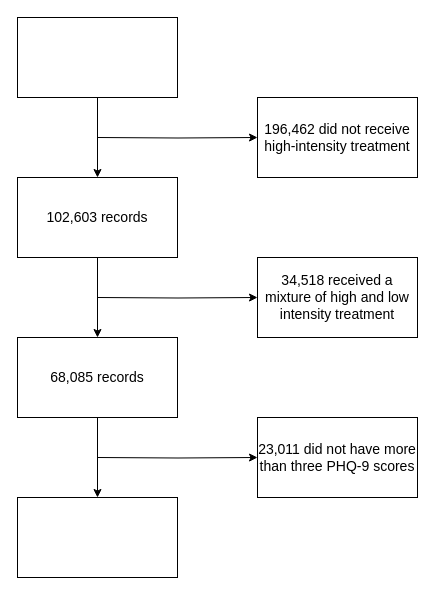
The diagram is 435 pixels wide and 595 high, and some of its shapes have lost their labels. Each missing label, with the centre of its shape:
"299,065 record from eight IAPT services in London" belongs at (97,57).
"The final dataset contains 45,074 records" belongs at (97,537).
